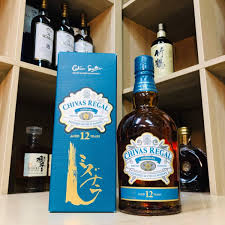Chivas Regal: (113, 52, 184, 218)
